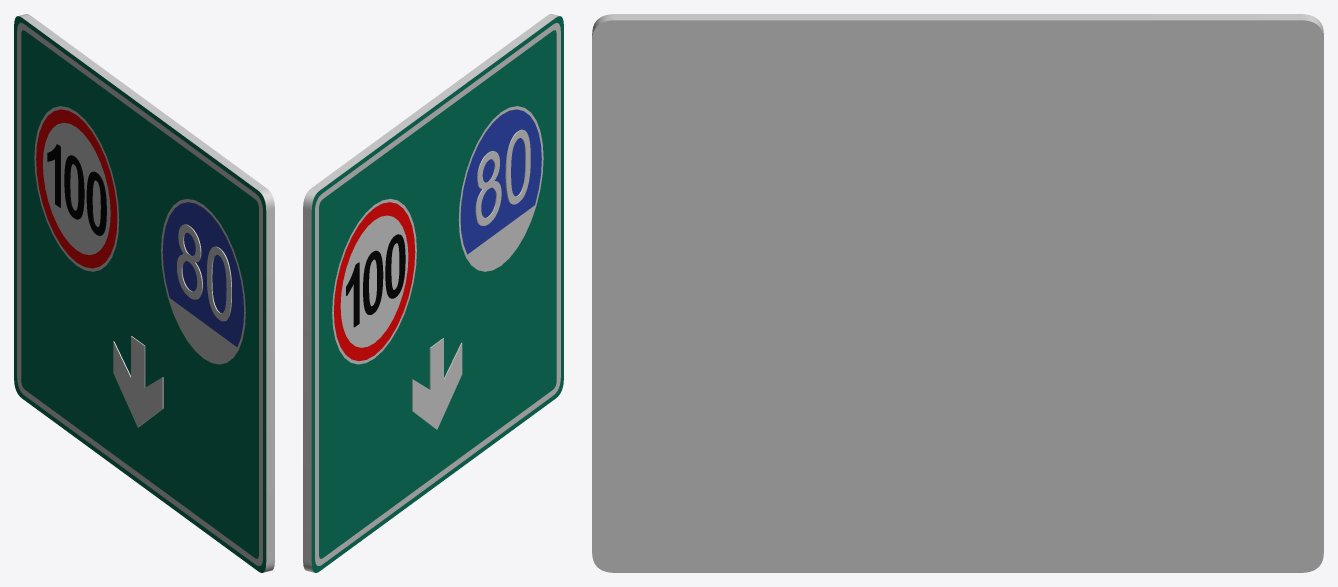
The model's file is Speed_Limit_80-100.fbx.
3 views of the same model, side by side, from view 1: azimuth 30°, elevation 25°; view 2: azimuth 150°, elevation 25°; view 3: azimuth 270°, elevation 25° (orthographic). The views are drawn at different scales.
Visible parts, largest first — view 1: Speed_Limit_80_100; view 2: Speed_Limit_80_100; view 3: Speed_Limit_80_100.
Part boxes in pixels (left/top/right/bottom): Speed_Limit_80_100: left=14, top=14, right=274, bottom=572; Speed_Limit_80_100: left=303, top=14, right=563, bottom=572; Speed_Limit_80_100: left=592, top=14, right=1323, bottom=572.
Size of the model in its own units: 0.0331 by 1.25 by 1.5.
